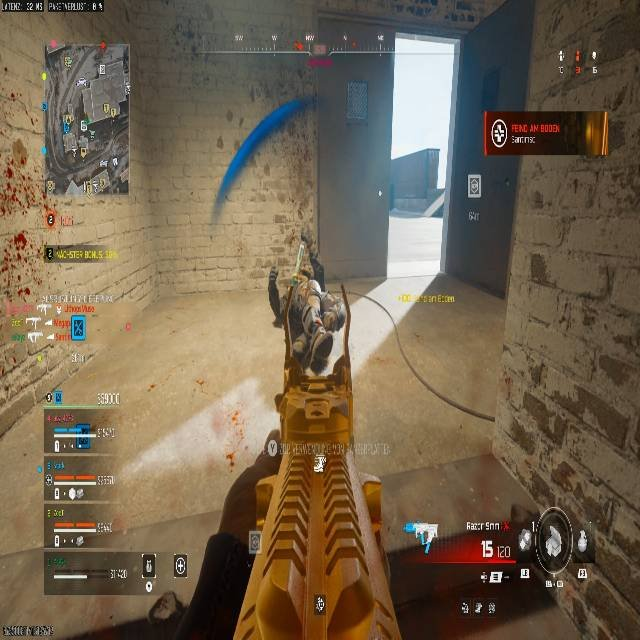player: (268, 256, 351, 375)
